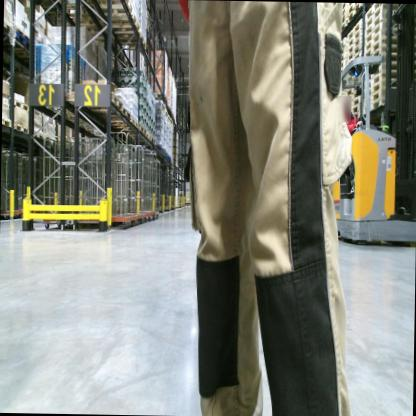forklift: (315, 4, 416, 244)
pallet: (71, 88, 124, 113), (44, 90, 88, 113), (363, 29, 400, 53), (91, 0, 136, 18), (64, 0, 106, 19), (364, 11, 400, 33), (360, 53, 399, 73), (361, 80, 399, 100), (361, 71, 399, 91), (364, 20, 397, 43), (364, 5, 398, 27), (338, 80, 365, 107), (363, 62, 401, 81), (363, 38, 399, 58), (104, 13, 140, 33), (360, 46, 398, 64), (90, 106, 132, 122), (362, 89, 396, 108), (114, 33, 148, 51), (2, 115, 31, 136), (361, 97, 394, 115), (76, 17, 107, 35), (87, 24, 110, 46), (362, 4, 389, 22), (346, 18, 363, 43), (118, 123, 147, 137), (344, 51, 362, 73), (105, 119, 140, 130), (11, 24, 30, 44), (344, 42, 362, 63), (114, 134, 152, 143), (348, 5, 365, 24), (12, 97, 30, 113), (347, 28, 362, 46), (348, 36, 363, 52), (348, 110, 362, 125), (346, 95, 361, 109), (348, 102, 361, 116), (348, 3, 361, 17), (4, 19, 14, 37), (29, 130, 43, 140), (341, 17, 348, 32), (340, 49, 348, 59), (340, 12, 348, 22), (340, 36, 346, 48), (341, 44, 346, 55), (339, 58, 344, 68), (340, 4, 348, 8), (341, 8, 346, 14)
